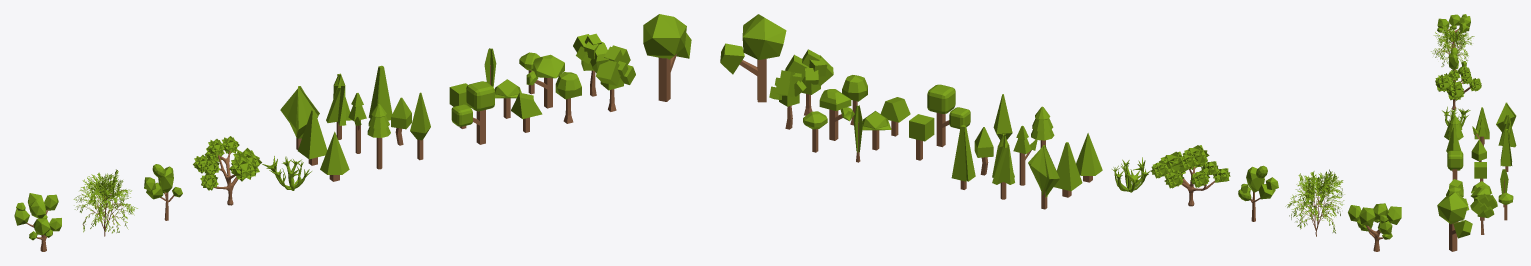
The model's file is trees1 (1).glb.
3 views of the same model, side by side, from view 1: azimuth 30°, elevation 25°; view 2: azimuth 150°, elevation 25°; view 3: azimuth 270°, elevation 25° (orthographic). The views are drawn at different scales.
Parts seen in each view (by area): view 1: Cube.018, Plane.023, tree, Cube.003, Cube.008, Tree 1.001, Circle.002, Cube.016, Plane.016, Plane.014, TREE 1.001, Cube.009 (+10 smaller); view 2: Cube.018, Plane.023, tree, Cube.003, Tree 1.001, Cube.008, Circle.002, Plane.014, TREE 1.001, Plane.016, Cube.016, Plane.015 (+12 smaller); view 3: Cube.018, Plane.023, tree, Plane.014, Tree 1.001, Cube.003, Circle.002, Plane.015, Plane.016, Circle.011, TREE 1.001, Plane.008 (+11 smaller).
Part boxes in pixels (left/top/right/bottom): Cube.018: left=643, top=14, right=691, bottom=101; Plane.023: left=193, top=136, right=261, bottom=205; tree: left=73, top=169, right=137, bottom=236; Cube.003: left=451, top=81, right=494, bottom=144; Cube.008: left=592, top=45, right=635, bottom=111; Tree 1.001: left=14, top=193, right=61, bottom=251; Circle.002: left=348, top=93, right=390, bottom=169; Cube.016: left=526, top=54, right=564, bottom=108; Plane.016: left=280, top=86, right=319, bottom=149; Plane.014: left=573, top=33, right=607, bottom=96; TREE 1.001: left=144, top=164, right=182, bottom=220; Cube.009: left=298, top=109, right=327, bottom=165; Cube.018: left=720, top=14, right=786, bottom=102; Plane.023: left=1151, top=145, right=1230, bottom=206; tree: left=1285, top=169, right=1344, bottom=236; Cube.003: left=927, top=84, right=970, bottom=147; Tree 1.001: left=1348, top=203, right=1401, bottom=251; Cube.008: left=785, top=49, right=833, bottom=115; Circle.002: left=1013, top=106, right=1054, bottom=185; Plane.014: left=769, top=70, right=806, bottom=129; TREE 1.001: left=1238, top=165, right=1278, bottom=221; Plane.016: left=1028, top=145, right=1059, bottom=209; Cube.016: left=819, top=89, right=854, bottom=140; Plane.015: left=951, top=125, right=975, bottom=189; Cube.018: left=1437, top=192, right=1472, bottom=251; Plane.023: left=1435, top=67, right=1481, bottom=109; tree: left=1431, top=25, right=1474, bottom=66; Plane.014: left=1470, top=193, right=1497, bottom=234; Tree 1.001: left=1437, top=14, right=1470, bottom=47; Cube.003: left=1447, top=150, right=1463, bottom=179; Circle.002: left=1447, top=115, right=1486, bottom=146; Plane.015: left=1500, top=129, right=1512, bottom=171; Plane.016: left=1496, top=102, right=1516, bottom=131; Circle.011: left=1498, top=114, right=1516, bottom=147; TREE 1.001: left=1448, top=47, right=1467, bottom=80; Plane.008: left=1471, top=140, right=1486, bottom=161.
Bounding box in the file's own units: 21.18 × 2.58 × 3.51.
